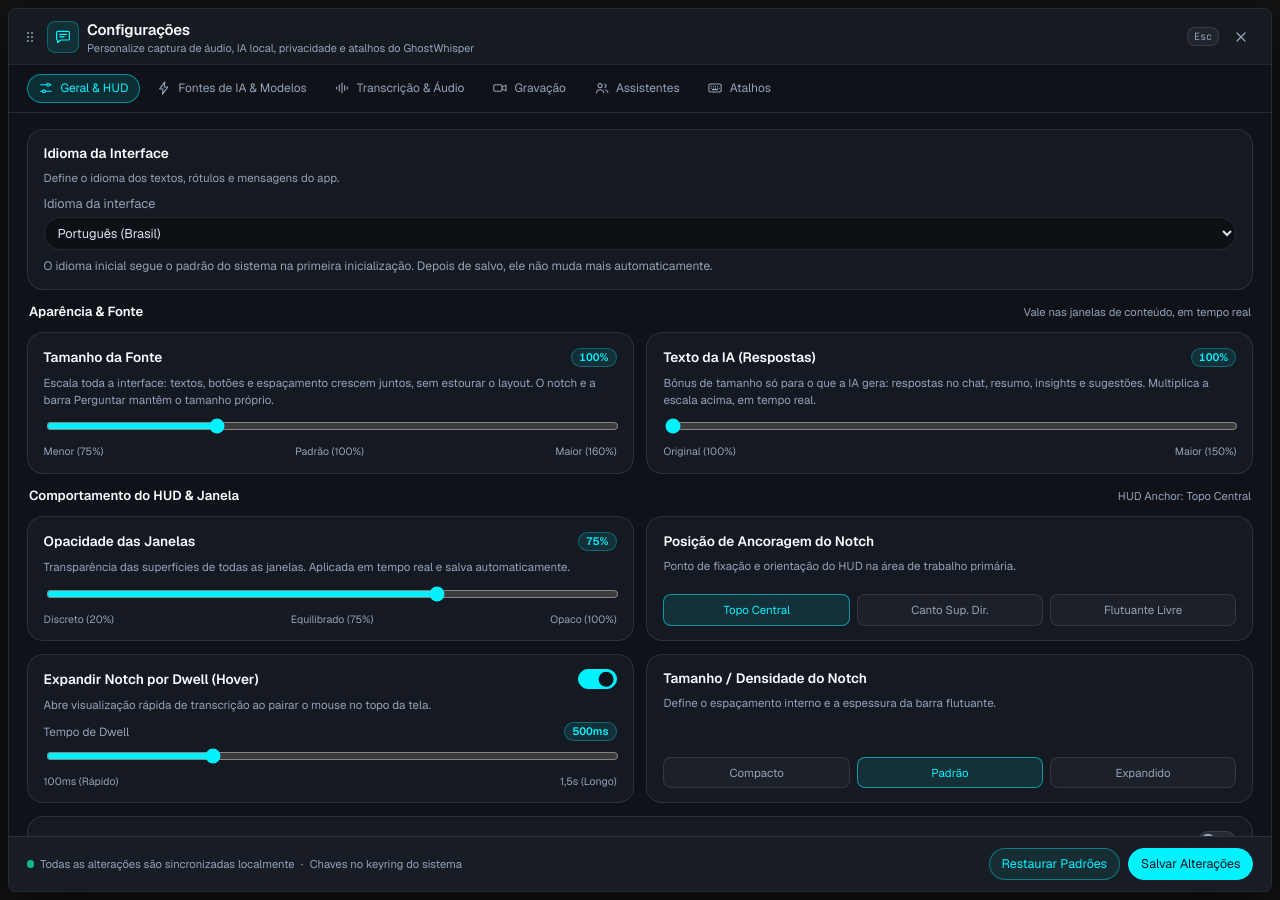
SettingsPage › salva o rascunho inteiro uma única vez
Click the button "Salvar Alterações" at [1191, 864], box [1128, 848, 1253, 880]
(page scrolled)
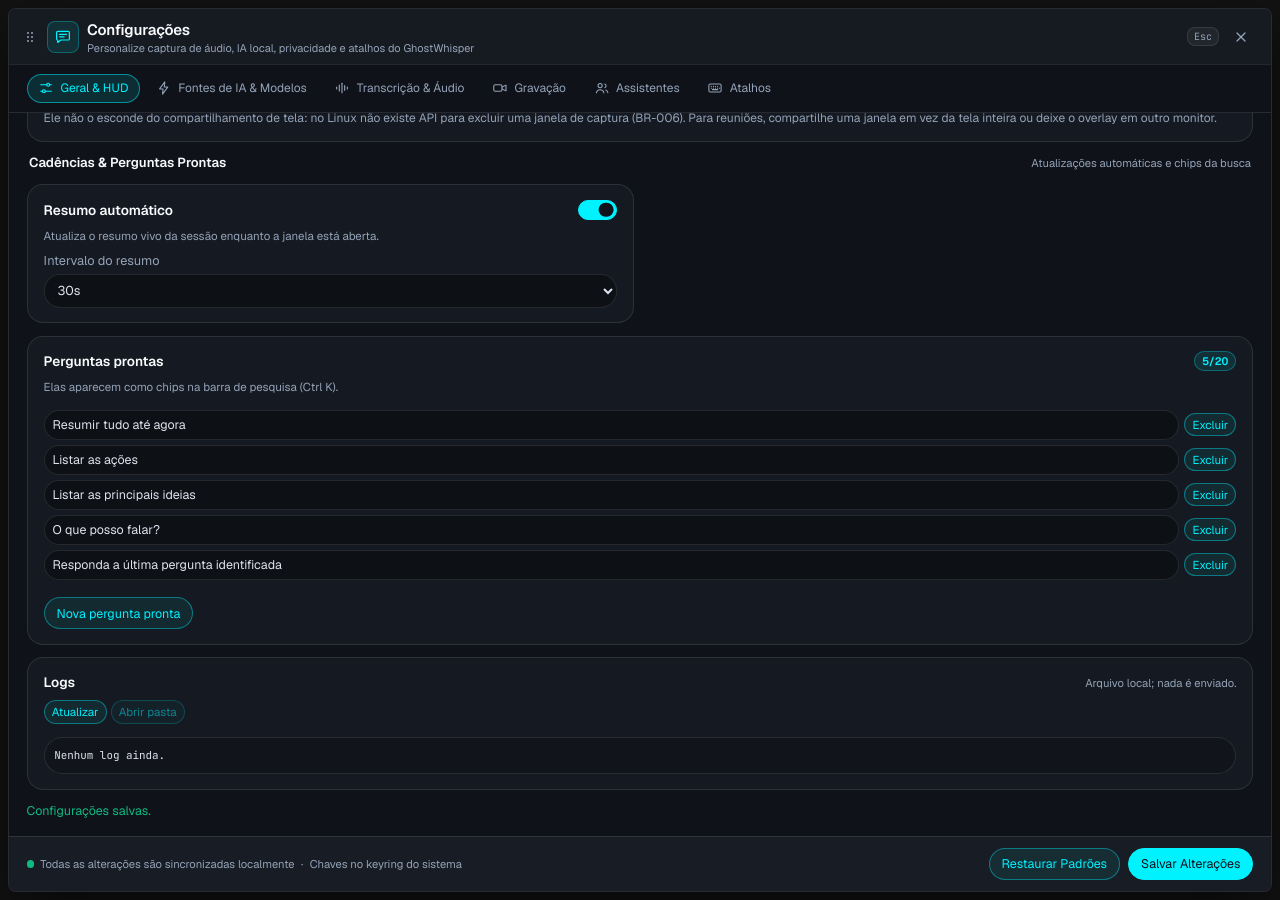
Check: the text "Configurações salvas." is shown, box [27, 802, 151, 819]
